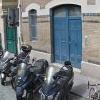Motorcycle: (4, 44, 76, 99)
